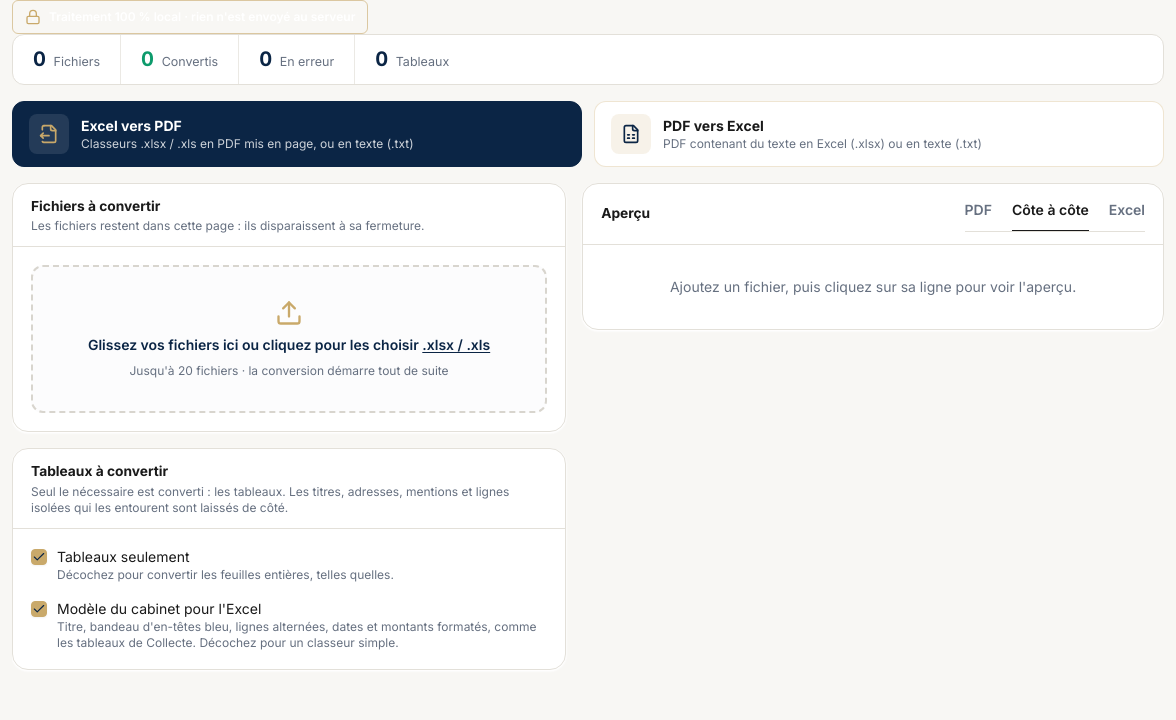
Test: page Conversions › propose les deux sens et ouvre PDF vers Excel
The width and height of the screenshot is (1176, 720).
Expected: the button "Excel vers PDF" is shown, [12, 101, 582, 167]
Click the button "PDF vers Excel" at (879, 134), box [594, 101, 1164, 167]
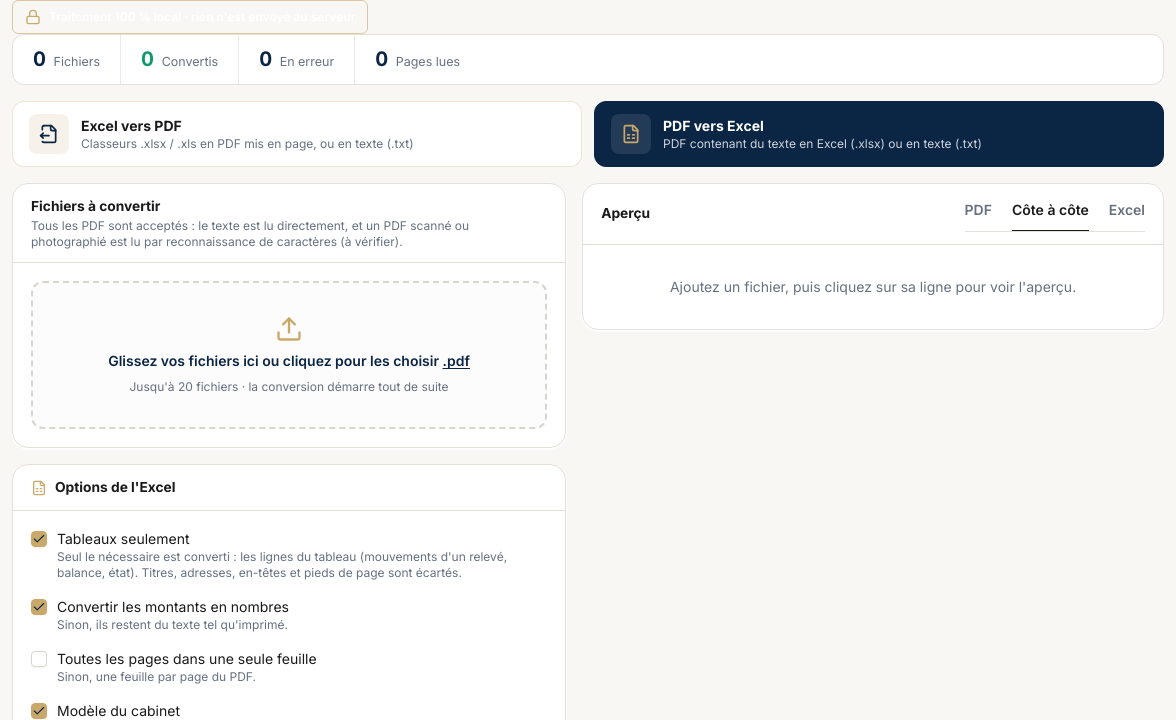
Now the text "Convertir les montants en nombres" is shown, box [57, 598, 289, 615]
Now the text "Toutes les pages dans une seule feuille" is shown, box [57, 650, 317, 667]
